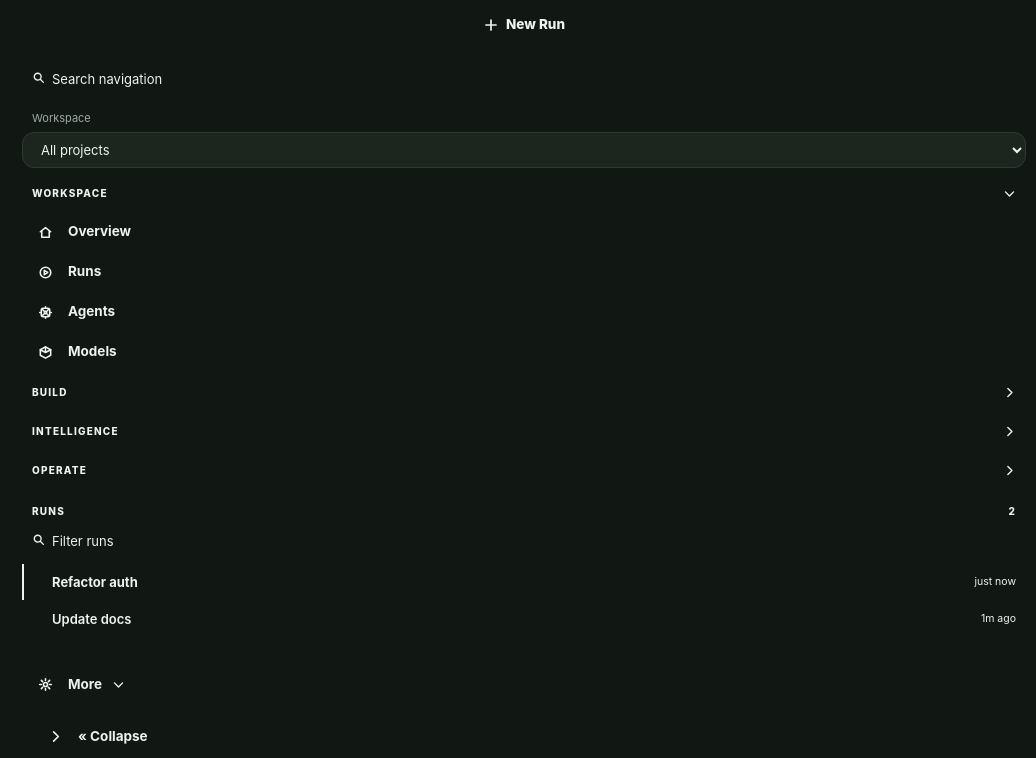
it: console shell › navigation changes view when a journey item is picked
Click the button "Models" at (92, 351), box [22, 332, 1026, 372]
(page scrolled)
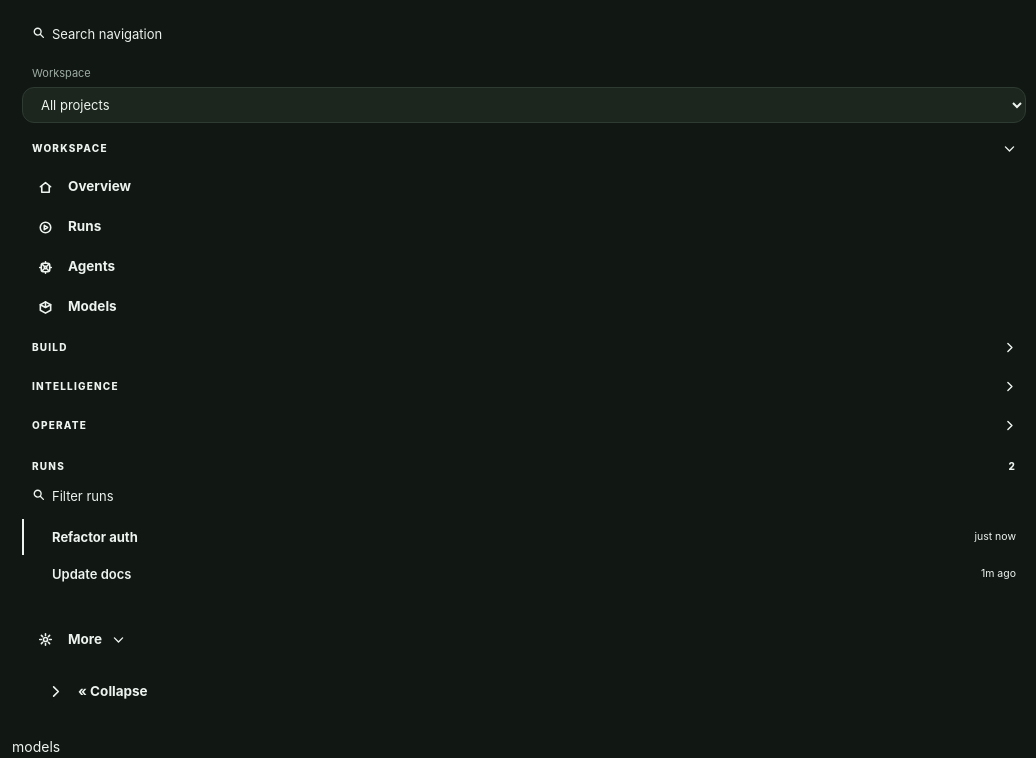
expect the text with test id "view" reads "models": met, box [12, 738, 60, 755]
